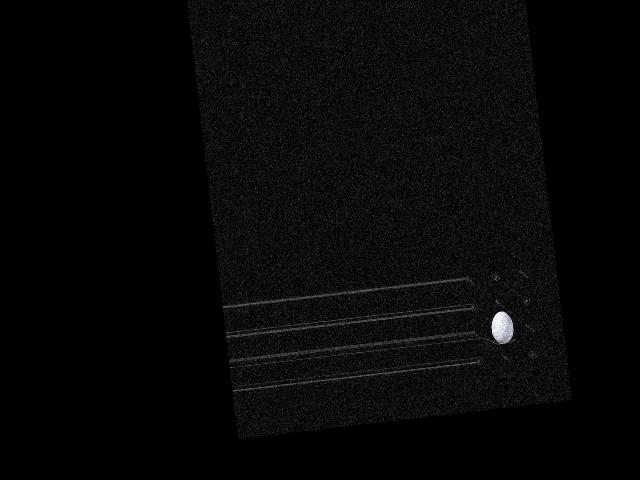egg: (489, 310, 514, 344)
